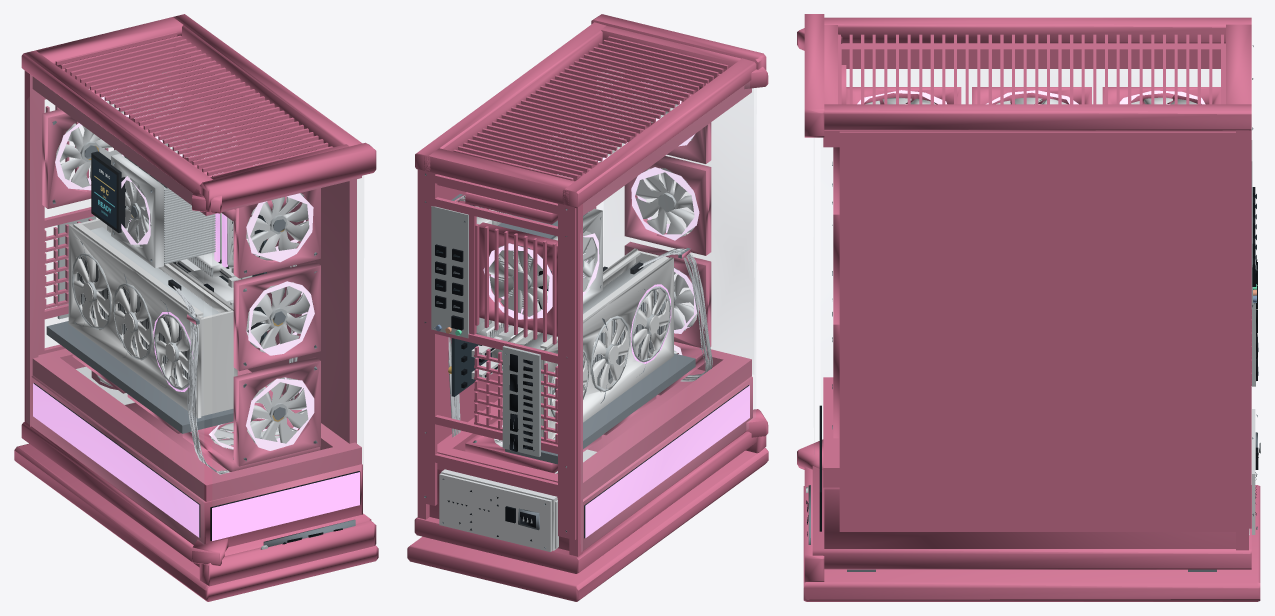
The model's file is display88-rose.glb.
The picture shows the model from 3 angles, left to right: view 1: azimuth 30°, elevation 25°; view 2: azimuth 150°, elevation 25°; view 3: azimuth 270°, elevation 25°; orthographic projection. The views are drawn at different scales.
Visible parts, largest first — view 1: s83-surface-3b9a8ef2-4f93-4a84-925c-c26bae3a871f, s83-surface-b353cf04-ca49-4072-8725-7acc655e430f, s83-surface-f70feadb-1267-4132-833c-3e62ed9b24a9, s83-fan-1, s83-fan-2, s83-surface-36a2d85f-123c-4cc4-81b5-34c06aefd471; view 2: s83-surface-3b9a8ef2-4f93-4a84-925c-c26bae3a871f, s83-surface-c12c4b2b-81ed-432b-8dd3-dee0f091fb73, s83-surface-b353cf04-ca49-4072-8725-7acc655e430f, s83-surface-f70feadb-1267-4132-833c-3e62ed9b24a9, s83-fan-2; view 3: s83-surface-3b9a8ef2-4f93-4a84-925c-c26bae3a871f, s83-surface-f70feadb-1267-4132-833c-3e62ed9b24a9.
Boxes of the visible parts, box(x1,y1,x2,y2) form: s83-surface-3b9a8ef2-4f93-4a84-925c-c26bae3a871f: box(14, 14, 378, 601); s83-surface-b353cf04-ca49-4072-8725-7acc655e430f: box(33, 213, 359, 540); s83-surface-f70feadb-1267-4132-833c-3e62ed9b24a9: box(55, 82, 314, 450); s83-fan-1: box(73, 253, 111, 330); s83-fan-2: box(113, 285, 152, 360); s83-surface-36a2d85f-123c-4cc4-81b5-34c06aefd471: box(92, 157, 116, 228); s83-surface-3b9a8ef2-4f93-4a84-925c-c26bae3a871f: box(407, 14, 768, 601); s83-surface-c12c4b2b-81ed-432b-8dd3-dee0f091fb73: box(603, 88, 754, 374); s83-surface-b353cf04-ca49-4072-8725-7acc655e430f: box(585, 284, 749, 537); s83-surface-f70feadb-1267-4132-833c-3e62ed9b24a9: box(483, 78, 699, 443); s83-fan-2: box(590, 316, 629, 392); s83-surface-3b9a8ef2-4f93-4a84-925c-c26bae3a871f: box(797, 14, 1260, 601); s83-surface-f70feadb-1267-4132-833c-3e62ed9b24a9: box(857, 90, 1205, 104).
Bounding box in the file's own units: 1.37 × 2.99 × 2.56.
6 materials, 5 textured.
